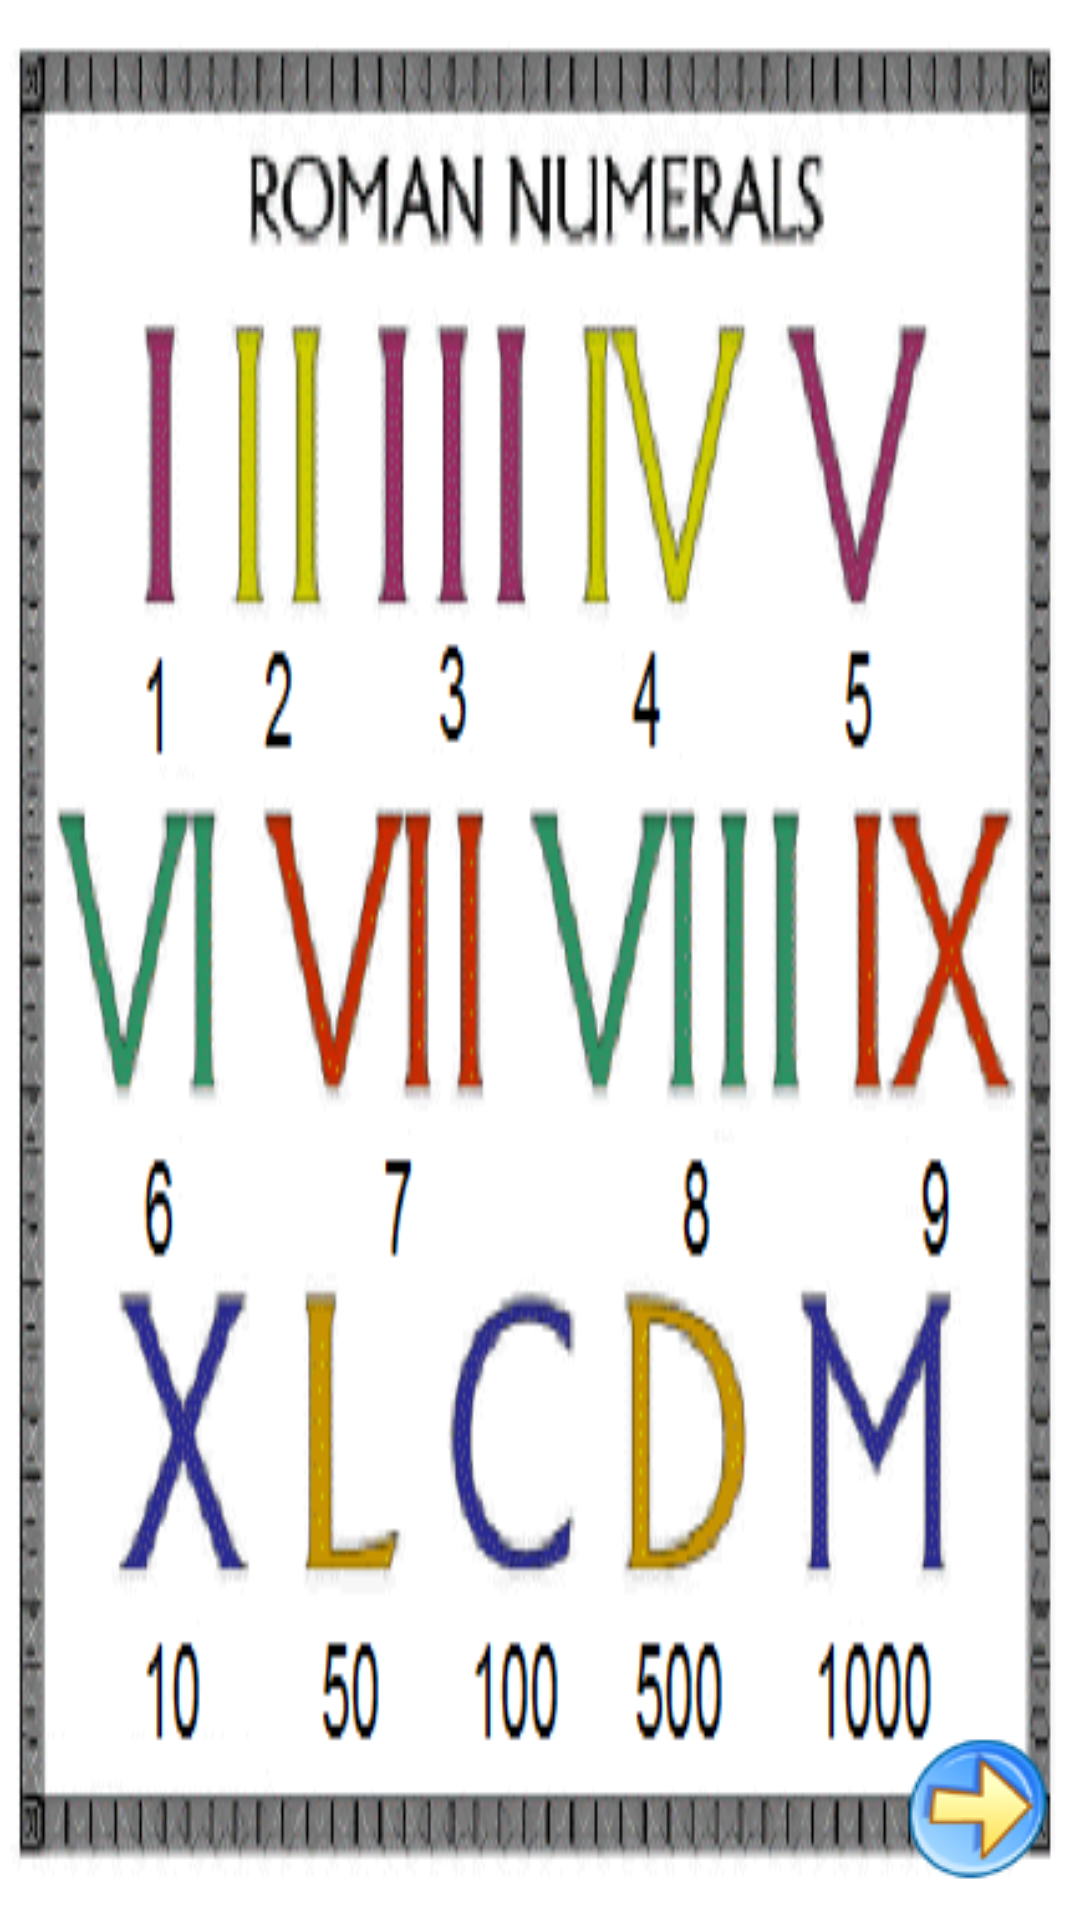

Where icons sit on this 1080 x 1920 app screen, as (x1, y1, x2, y2):
forward: (906, 1737, 1050, 1879)
